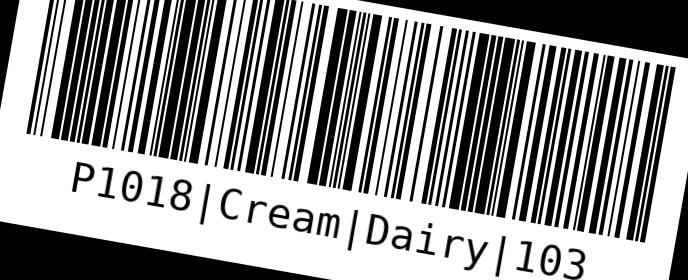milk: (10, 0, 687, 279)
